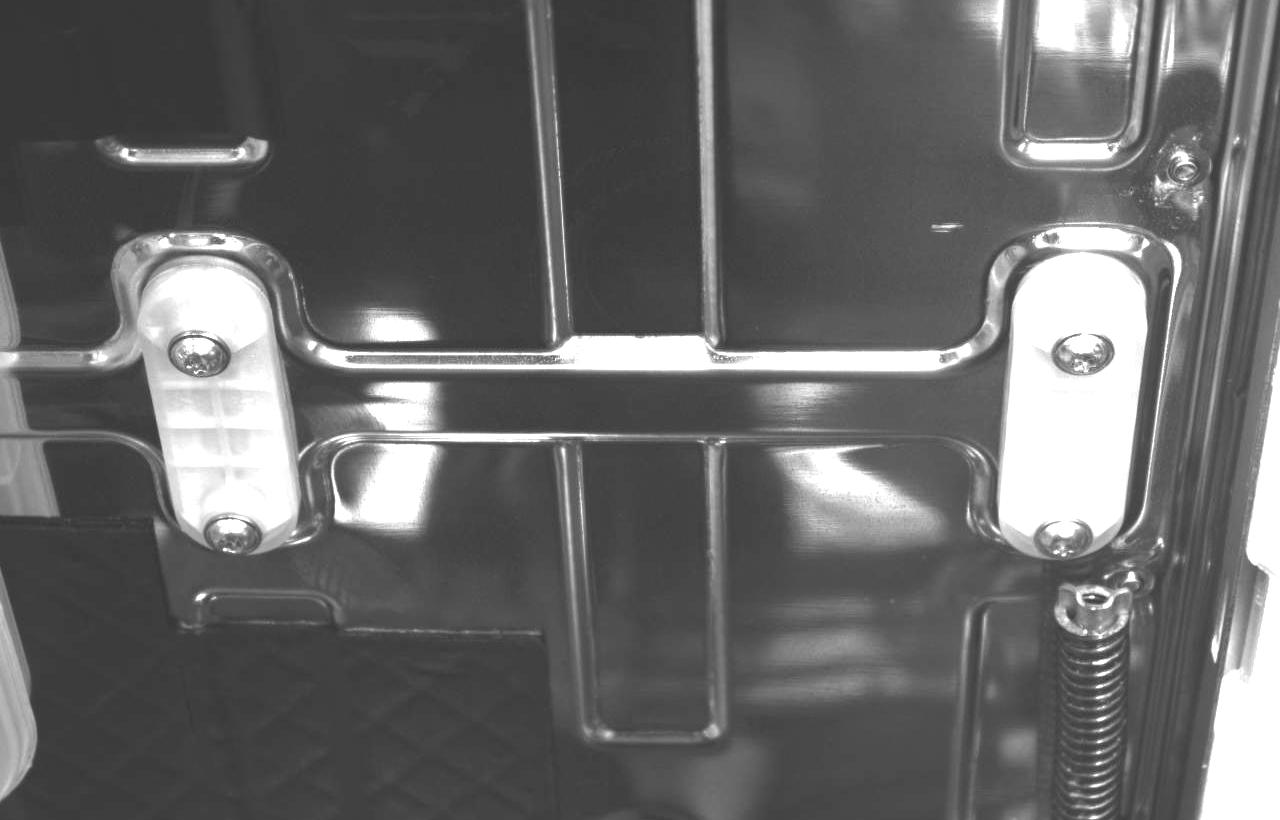vida-ok: (164, 322, 236, 389), (1050, 325, 1117, 392), (199, 502, 264, 561), (1031, 507, 1097, 565)
